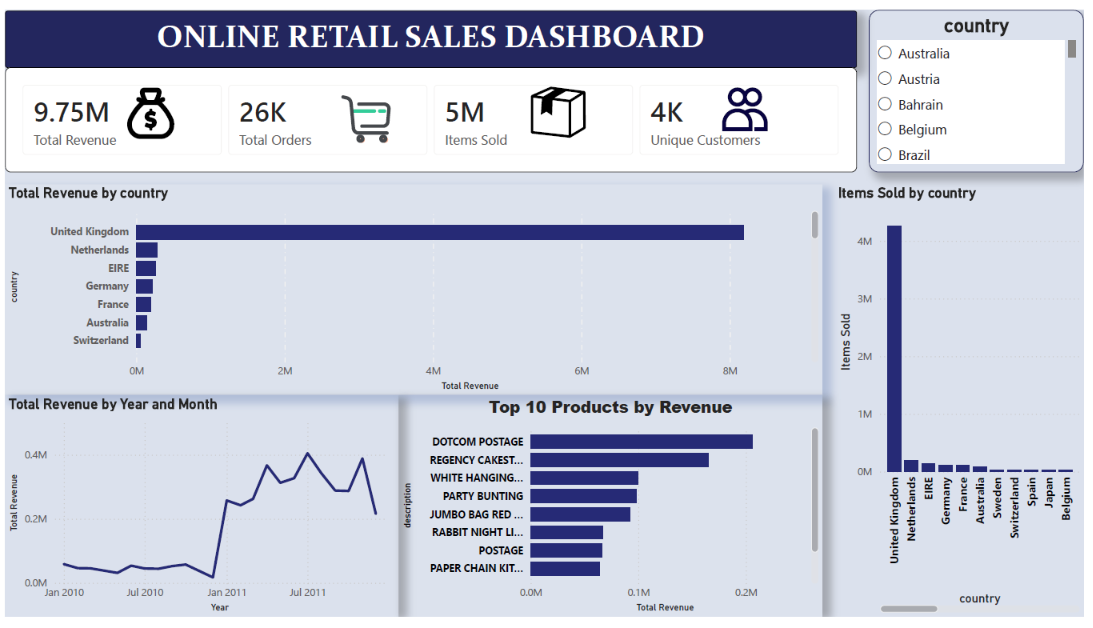

This screenshot's page, from the dashboard's own definition file:
{"tool":"powerbi","page":{"name":"Page 1","canvas":[1280,720],"ordinal":0},"visuals":[{"type":"cardVisual","fields":{"Data":["public online_retail.Total Revenue"]},"box":[0,58.7,217.7,113.7],"z":0},{"type":"cardVisual","fields":{"Data":["public online_retail.Total Orders"]},"box":[217.7,58.7,217.7,113.7],"z":1000},{"type":"cardVisual","fields":{"Data":["public online_retail.Total Quantity"]},"box":[452.4,58.7,218.9,113.7],"z":2000},{"type":"cardVisual","fields":{"Data":["public online_retail.Unique Customers"]},"box":[682.3,59.9,218.9,113.7],"z":3000},{"type":"clusteredBarChart","fields":{"Category":["public online_retail.country"],"Y":["public online_retail.Total Revenue"]},"box":[0,157.7,985.6,272.7],"z":4000},{"type":"clusteredColumnChart","fields":{"Category":["public online_retail.country"],"Y":["public online_retail.Total Quantity"]},"box":[985.6,172.4,294.7,547.8],"z":5000},{"type":"pieChart","fields":{"Category":["public online_retail.country"],"Y":["public online_retail.Total Revenue"]},"box":[0,457.3,464.7,262.9],"z":6000},{"type":"lineChart","fields":{"Category":["public online_retail.Date.Variation.Date Hierarchy.Year","public online_retail.Date.Variation.Date Hierarchy.Month"],"Y":["public online_retail.Total Revenue"]},"box":[464.7,457.3,475.7,262.9],"z":7000},{"type":"textbox","box":[0,1.2,1052.9,57.5],"z":10001},{"type":"listSlicer","fields":{"Values":["public online_retail.country"]},"box":[1052.5,0,227.8,157.8],"z":10003}]}

Visuals, with their boxes in screenshot pixels (x1, y1, x2, y2), scaled from the page's 1280x720 canvas onto the 1093x628 screenshot:
cardVisual - public online_retail.Total Revenue: left=0, top=51, right=186, bottom=150
cardVisual - public online_retail.Total Orders: left=186, top=51, right=372, bottom=150
cardVisual - public online_retail.Total Quantity: left=386, top=51, right=573, bottom=150
cardVisual - public online_retail.Unique Customers: left=583, top=52, right=770, bottom=151
clusteredBarChart - public online_retail.country x public online_retail.Total Revenue: left=0, top=138, right=842, bottom=375
clusteredColumnChart - public online_retail.country x public online_retail.Total Quantity: left=842, top=150, right=1092, bottom=627
pieChart - public online_retail.country x public online_retail.Total Revenue: left=0, top=399, right=397, bottom=627
lineChart - public online_retail.Date.Variation.Date Hierarchy.Year x public online_retail.Date.Variation.Date Hierarchy.Month: left=397, top=399, right=803, bottom=627
textbox: left=0, top=1, right=899, bottom=51
listSlicer - public online_retail.country: left=899, top=0, right=1092, bottom=138
